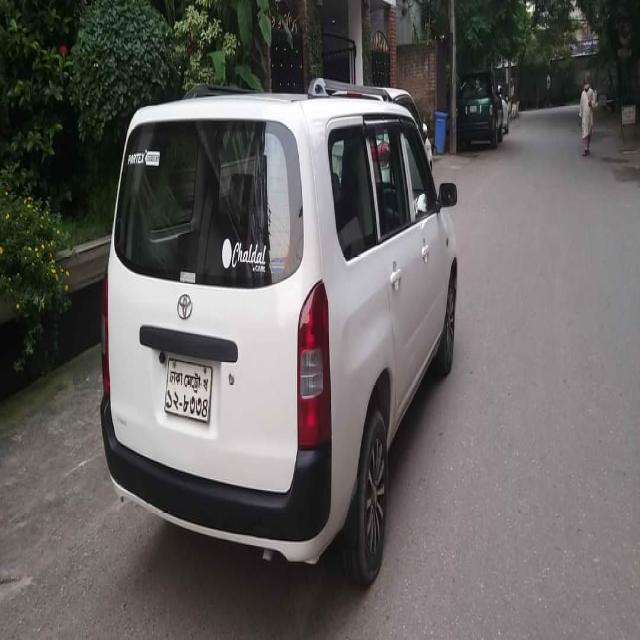white: (86, 83, 478, 566)
